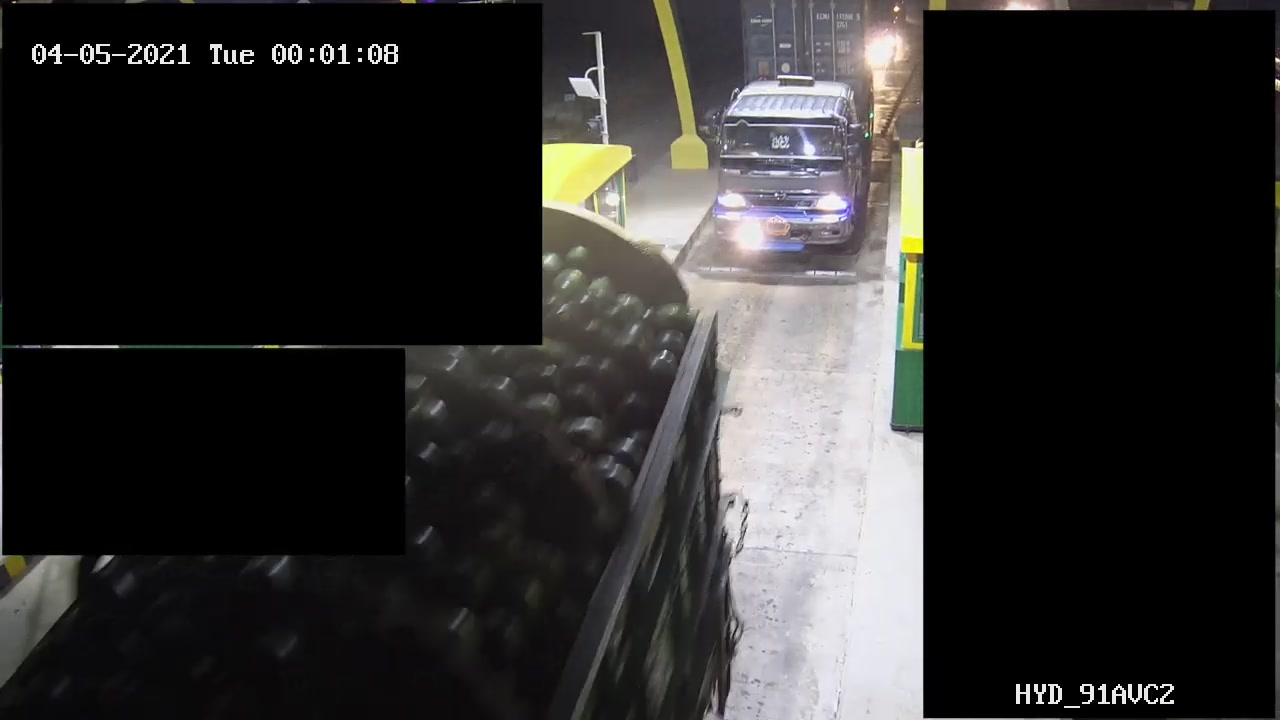F6: (711, 1, 876, 262)
